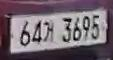3: (58, 16, 72, 44)
4: (31, 20, 43, 44)
5: (91, 15, 101, 40)
6: (18, 20, 31, 47), (72, 15, 82, 42)
9: (82, 15, 91, 41)
거: (43, 20, 56, 43)
